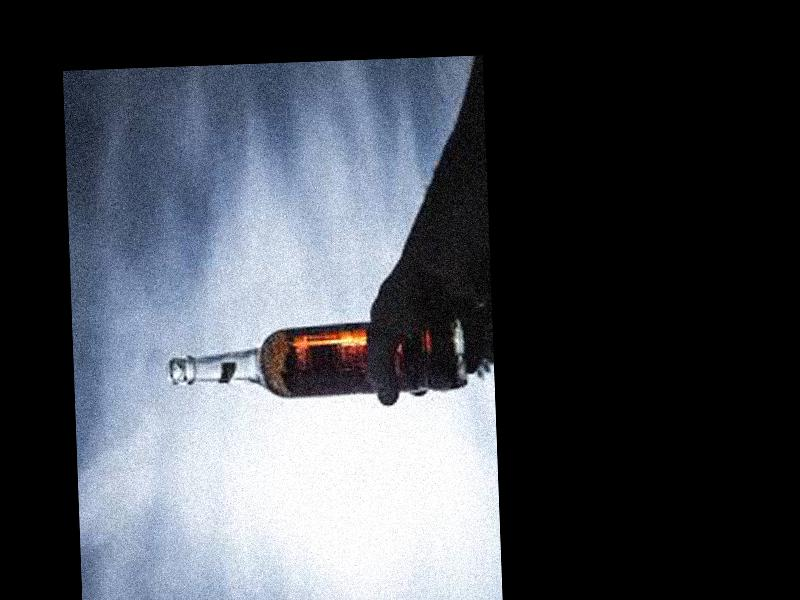Beer: (166, 318, 463, 398)
